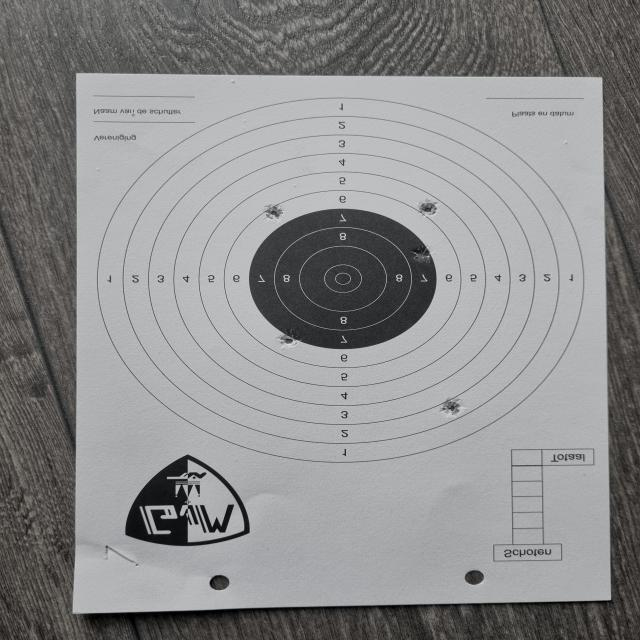3: (443, 398, 460, 414)
6: (418, 201, 440, 217), (265, 207, 284, 220)
7: (412, 245, 436, 263), (280, 334, 299, 347)
Target: (95, 96, 583, 462)
black_contour: (248, 208, 438, 349)
